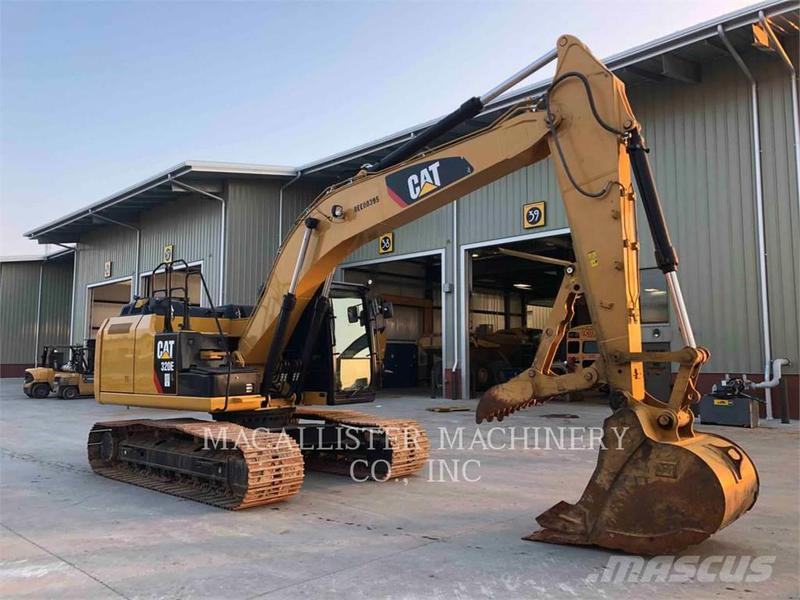shovel: (80, 29, 763, 563)
